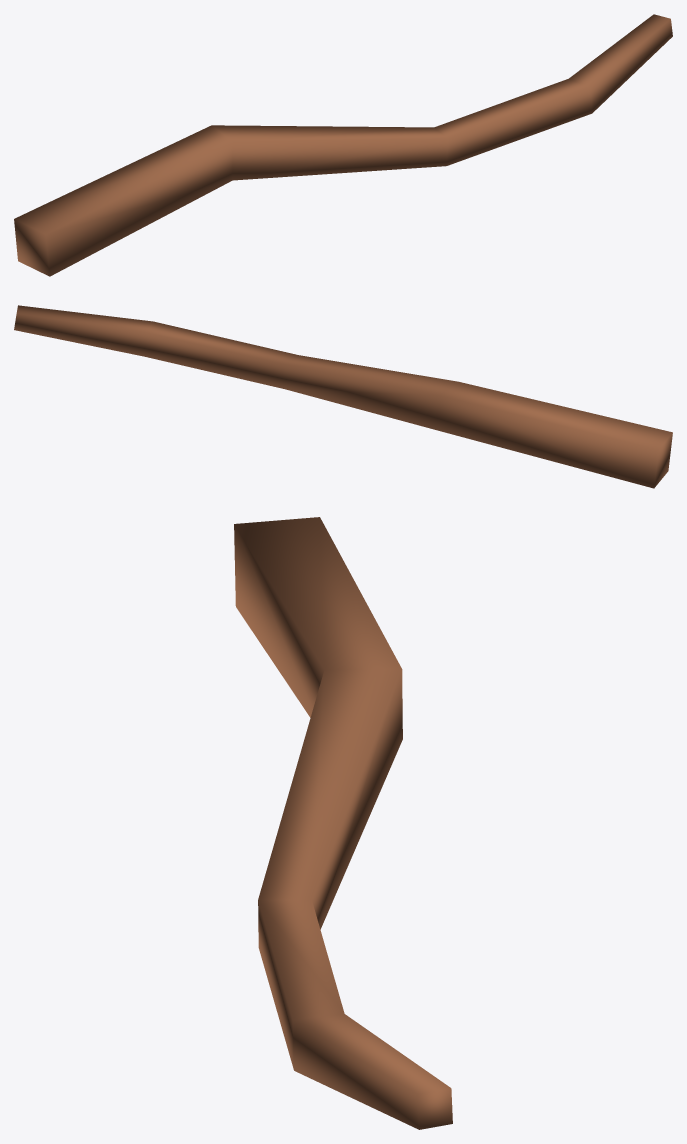
File: Stick_Brown_4.fbx
3 views of the same model, one above another, from view 1: azimuth 30°, elevation 25°; view 2: azimuth 150°, elevation 25°; view 3: azimuth 270°, elevation 25° (orthographic). The views are drawn at different scales.
Visible parts, largest first — view 1: Stick_Brown_4; view 2: Stick_Brown_4; view 3: Stick_Brown_4.
Boxes of the visible parts, x1,y1,x2,y2 form: Stick_Brown_4: (14, 14, 672, 276); Stick_Brown_4: (14, 305, 672, 488); Stick_Brown_4: (234, 517, 452, 1129).
Bounding box in the file's own units: 190 × 17.7 × 29.14.
